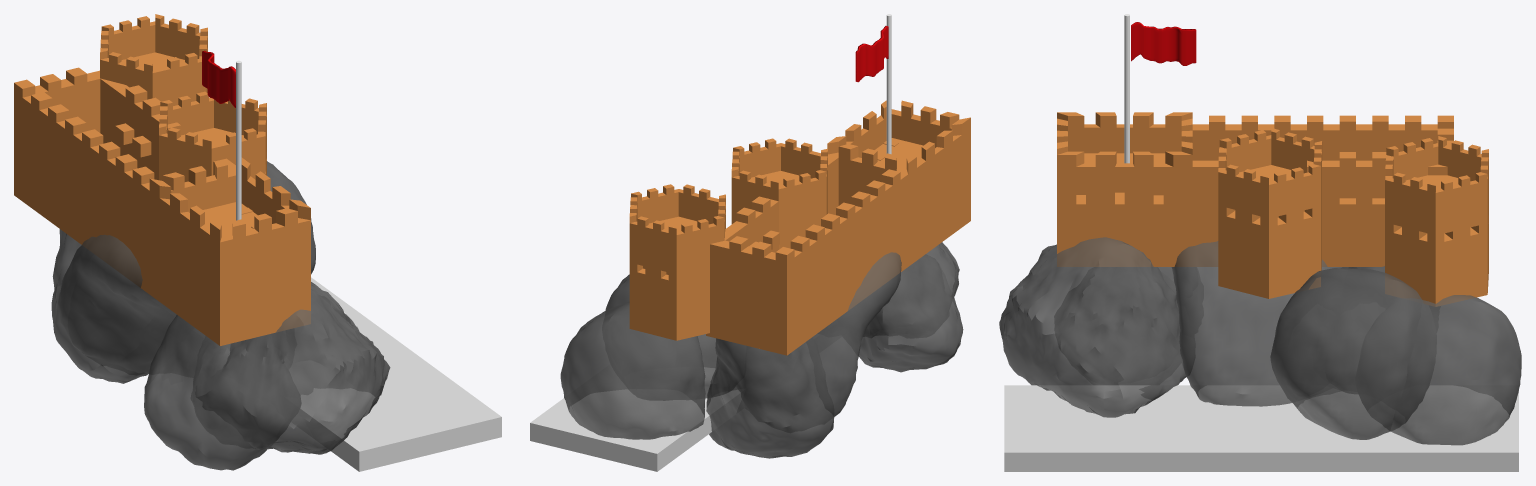
The model's file is kale.fbx.
3 views of the same model, side by side, from view 1: azimuth 30°, elevation 25°; view 2: azimuth 150°, elevation 25°; view 3: azimuth 270°, elevation 25° (orthographic). The views are drawn at different scales.
Visible parts, largest first — view 1: Cube, rock.001, rock.003, Cube.001, rock.004, rock, Cylinder.001, Cylinder, bayrak, direk, rock.002; view 2: Cube, rock.005, Cylinder.001, rock, rock.004, Cube.001, rock.002, rock.003, Cylinder, rock.001, bayrak, direk; view 3: Cube.001, Cube, rock.001, rock.002, rock.005, rock.004, Cylinder, Cylinder.001, rock.003, rock, bayrak, direk.
Part boxes in pixels (x1,y1,x2,y2): Cube: [14, 67, 310, 345]; rock.001: [191, 282, 390, 454]; rock.003: [144, 315, 301, 470]; Cube.001: [298, 277, 501, 471]; rock.004: [57, 234, 289, 375]; rock: [51, 229, 175, 383]; Cylinder.001: [100, 14, 207, 105]; Cylinder: [159, 91, 266, 181]; bayrak: [202, 50, 235, 107]; direk: [236, 60, 241, 220]; rock.002: [267, 161, 315, 274]; Cube: [706, 100, 970, 355]; rock.005: [560, 301, 705, 439]; Cylinder.001: [629, 184, 725, 340]; rock: [706, 338, 834, 458]; rock.004: [737, 252, 901, 432]; Cube.001: [530, 367, 741, 471]; rock.002: [604, 274, 745, 400]; rock.003: [859, 254, 963, 372]; Cylinder: [731, 138, 827, 249]; rock.001: [863, 242, 959, 338]; bayrak: [855, 26, 888, 82]; direk: [886, 14, 891, 154]; Cube.001: [1004, 385, 1518, 471]; Cube: [1057, 112, 1453, 266]; rock.001: [999, 237, 1195, 417]; rock.002: [1270, 268, 1436, 439]; rock.005: [1355, 295, 1521, 445]; rock.004: [1171, 241, 1356, 406]; Cylinder: [1218, 128, 1322, 298]; Cylinder.001: [1385, 136, 1488, 306]; rock.003: [1054, 267, 1197, 384]; rock: [1325, 266, 1384, 393]; bayrak: [1131, 22, 1196, 65]; direk: [1124, 14, 1129, 163].
Size of the model in its own units: 1299 by 1826 by 2191.
